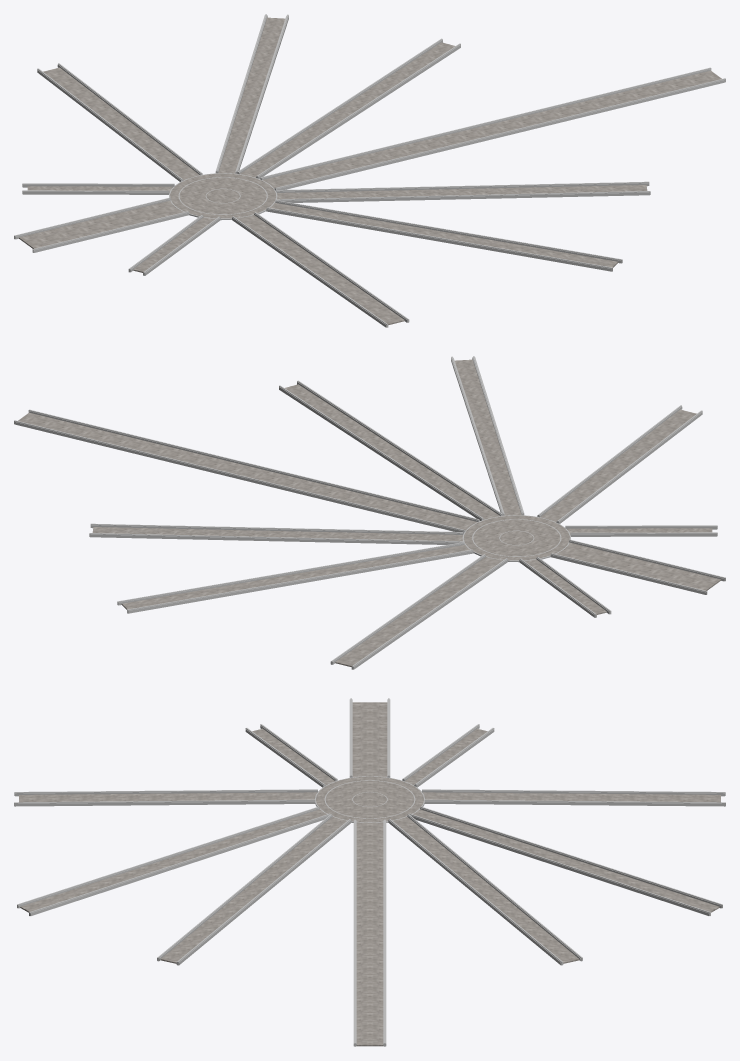
The model's file is SM_ParkCircle.fbx.
3 views of the same model, one above another, from view 1: azimuth 30°, elevation 25°; view 2: azimuth 150°, elevation 25°; view 3: azimuth 270°, elevation 25° (orthographic).
Visible parts, largest first — view 1: SM_ParkCircle_LOD0; view 2: SM_ParkCircle_LOD0; view 3: SM_ParkCircle_LOD0.
Part boxes in pixels (x1=…): SM_ParkCircle_LOD0: x1=14, y1=14, x2=725, y2=327; SM_ParkCircle_LOD0: x1=14, y1=356, x2=725, y2=669; SM_ParkCircle_LOD0: x1=14, y1=698, x2=725, y2=1046.
Bounding box in the file's own units: 6044 × 29.25 × 5272.
